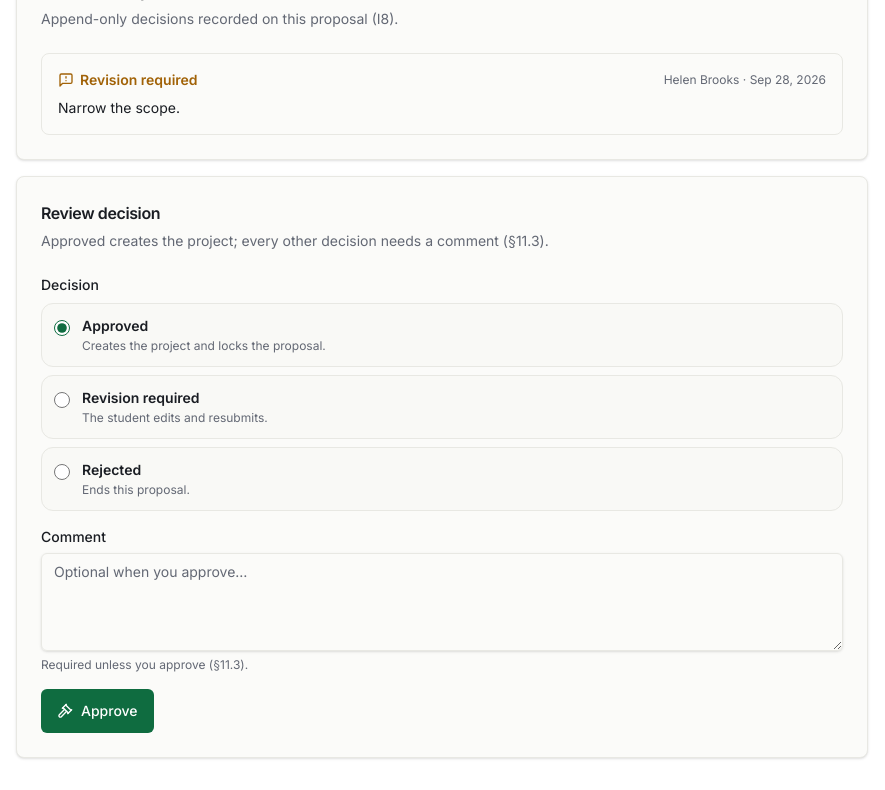
Test: ProposalDetail — reviewer (§16.4 decision form) › requires a comment for a non-approving decision (§11.3)
The image size is (885, 790).
(page scrolled)
Click the radio button labelled "Revision required The student edits and resubmits." at (62, 400), box left=54, top=392, right=70, bottom=408
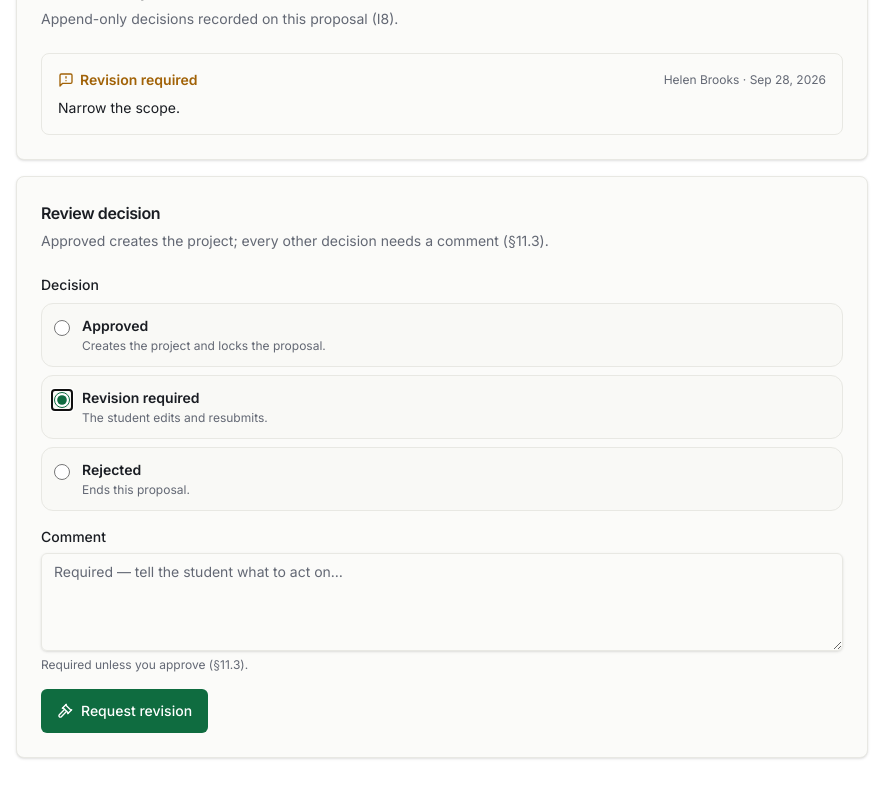
Click the button "Request revision" at (125, 711), box left=41, top=689, right=208, bottom=733
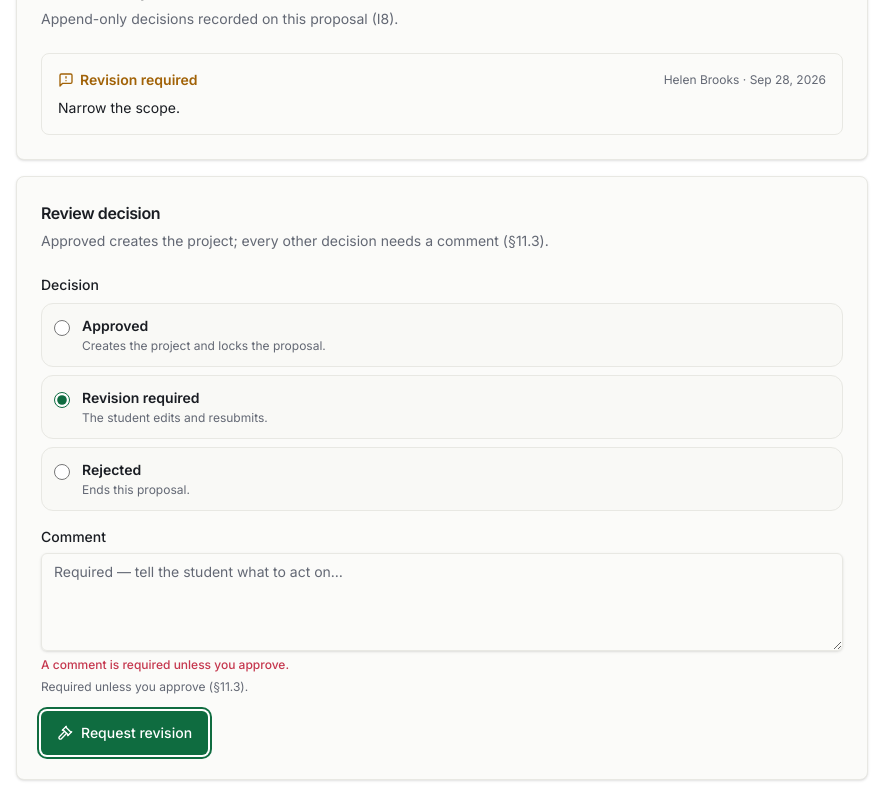
Now the message shows "comment is required", box left=41, top=657, right=289, bottom=672
